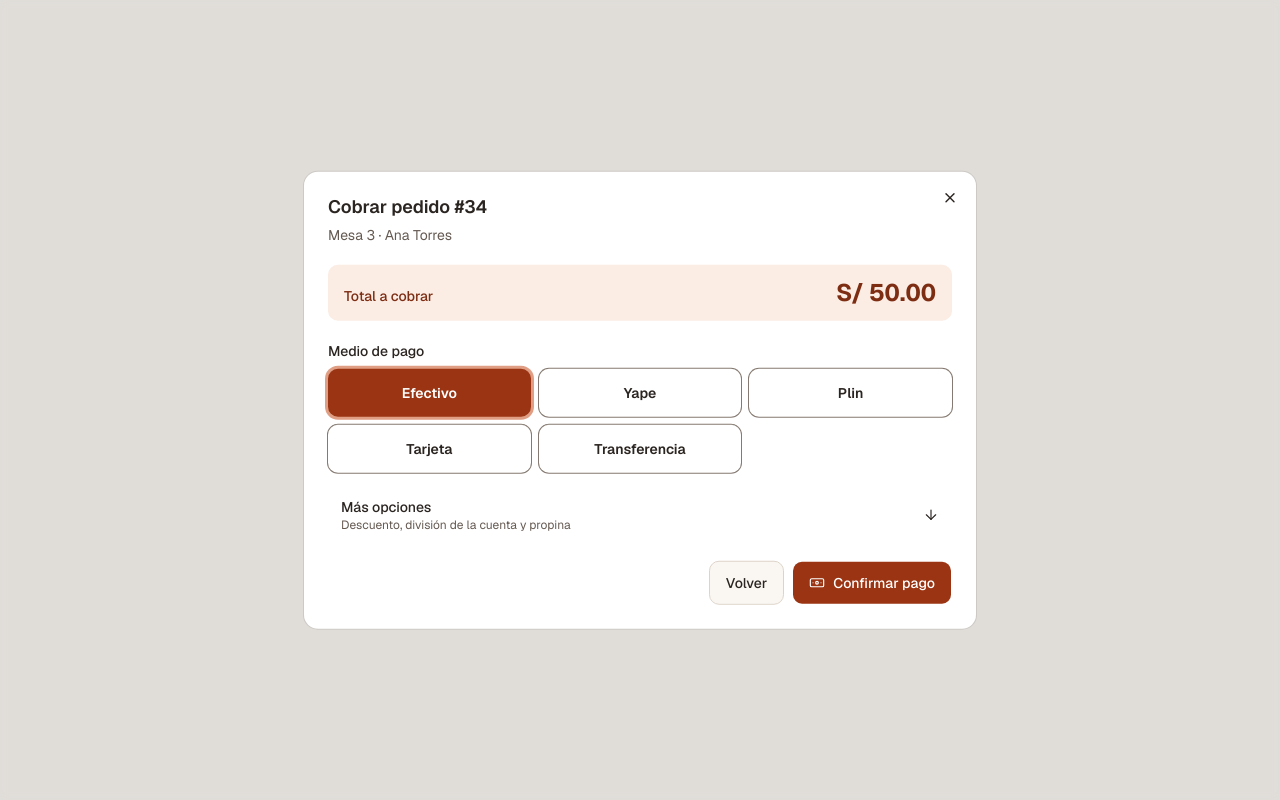
Scenario: cobro por platos › pide al menos un plato y cobra solo los elegidos
Click the button "Más opciones Descuento, división de la cuenta y propina" at (386,506), box [328,492,952,536]
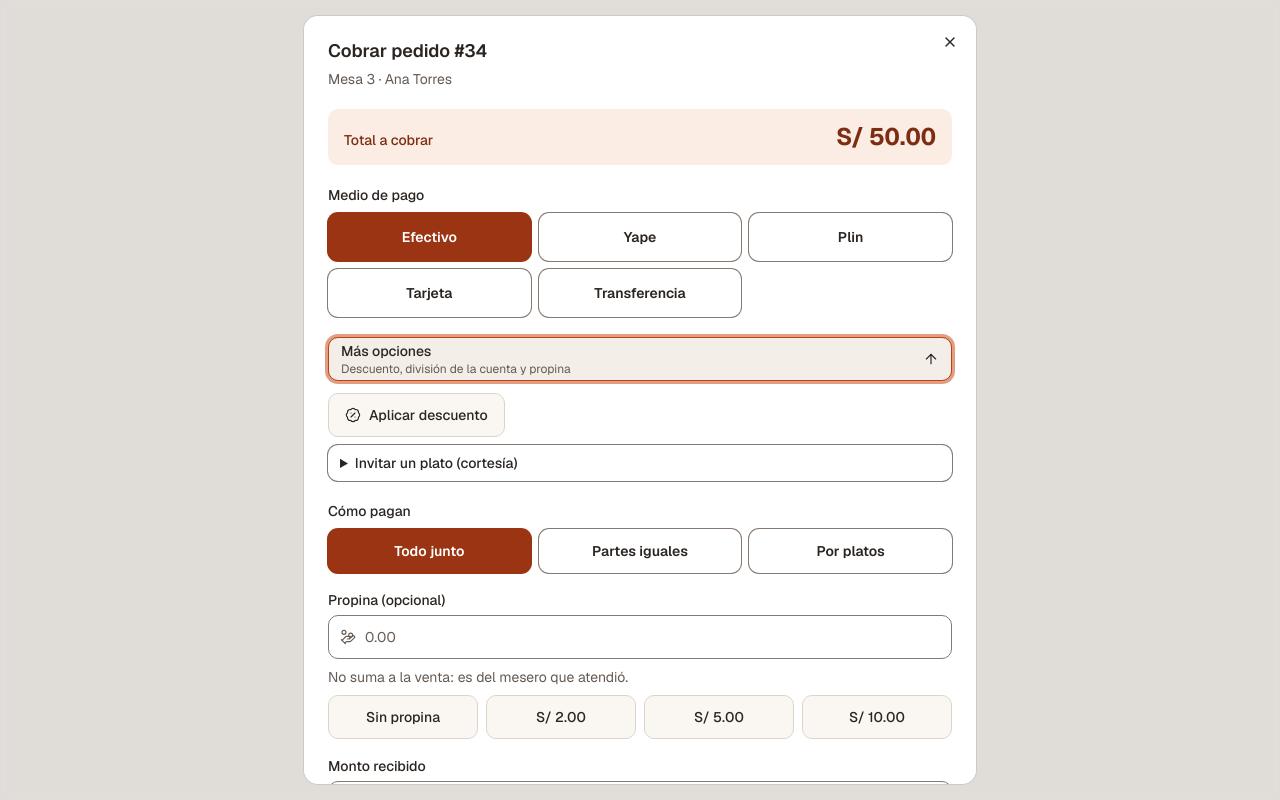
Click the radio button labelled "Por platos" at (851,550), box [749,528,952,572]
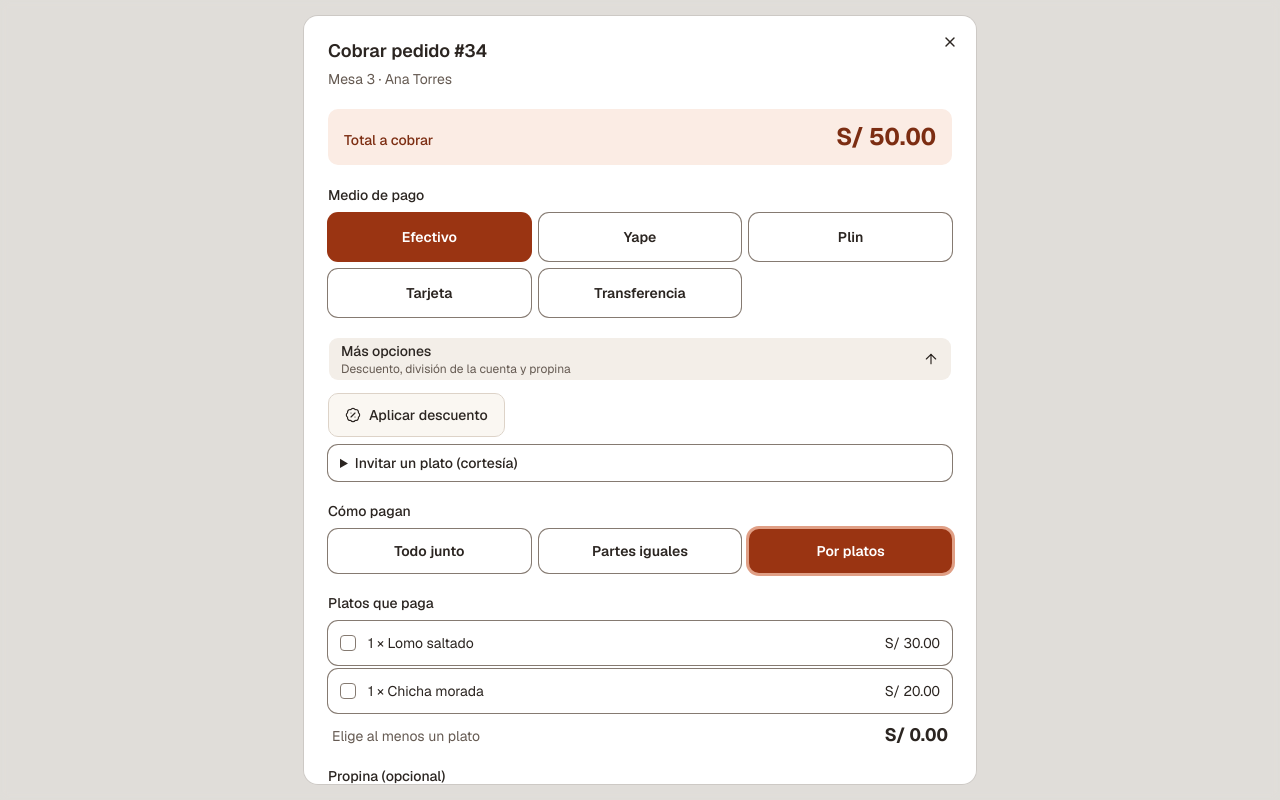
Expected: the text "Elige al menos un plato" is shown, [332,726,480,746]
Click the checkbox named "Chicha morada" in the row of "Chicha morada" at (348,690), box [340,682,356,698]
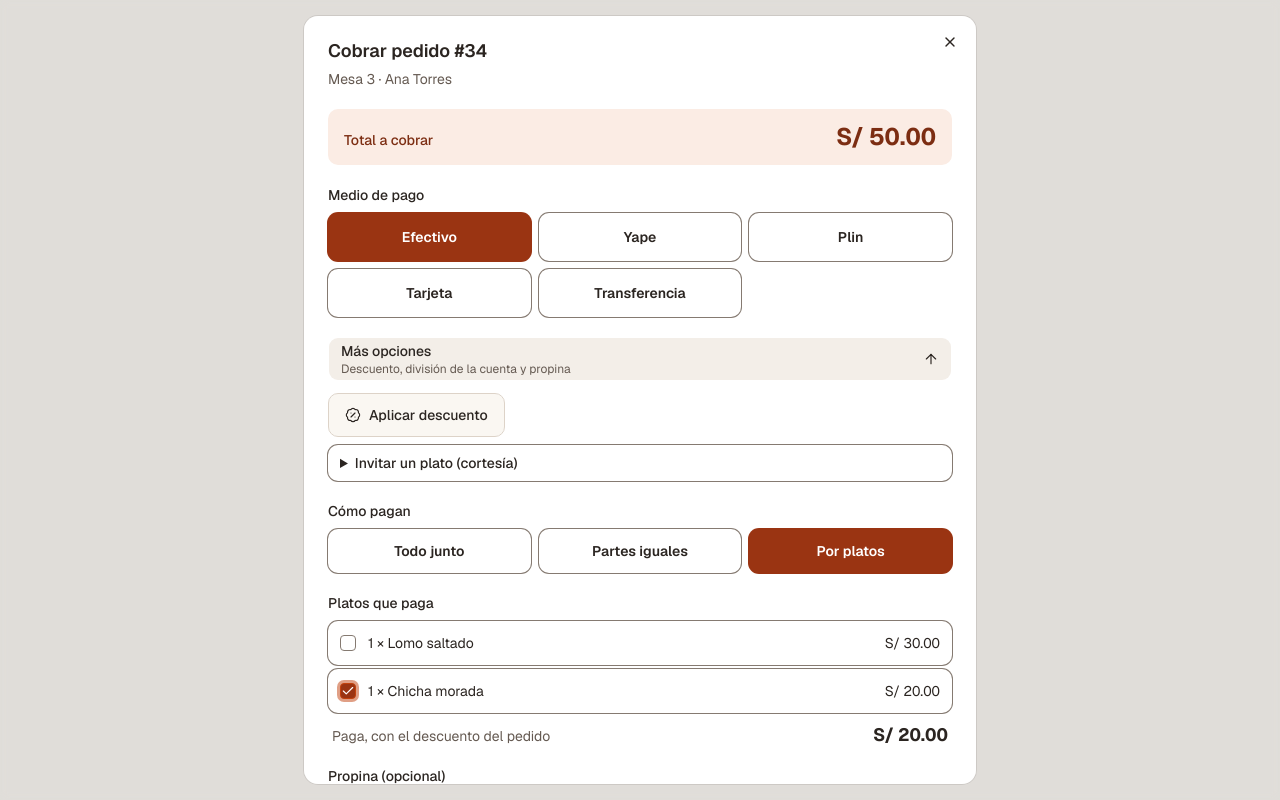
Expected: the element with test id "item-split-charge" reads "Paga, con el descuento del pedido S/ 20.00", [328,720,952,748]
Click the radio button labelled "Yape" at (640,236), box [539,212,741,260]
(page scrolled)
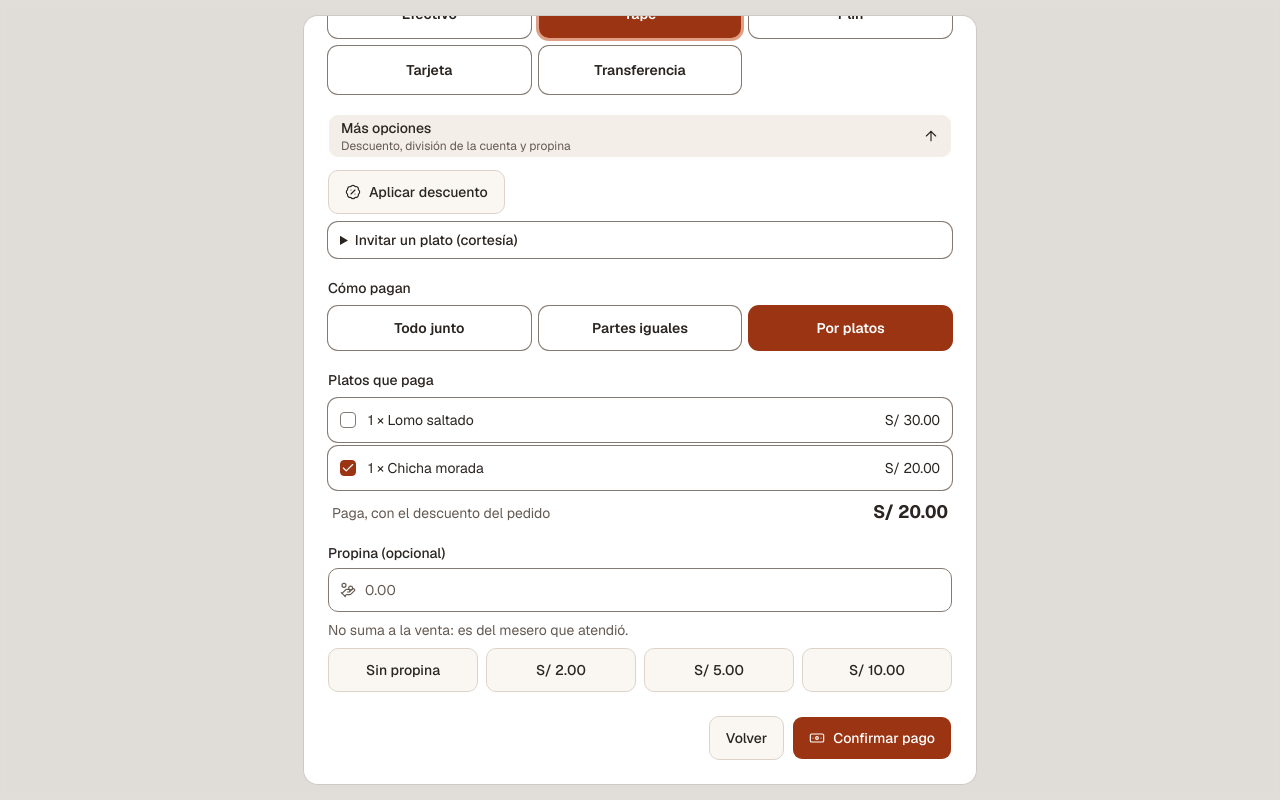
Click the button "Confirmar pago" at (872,738), box [792,716,952,760]
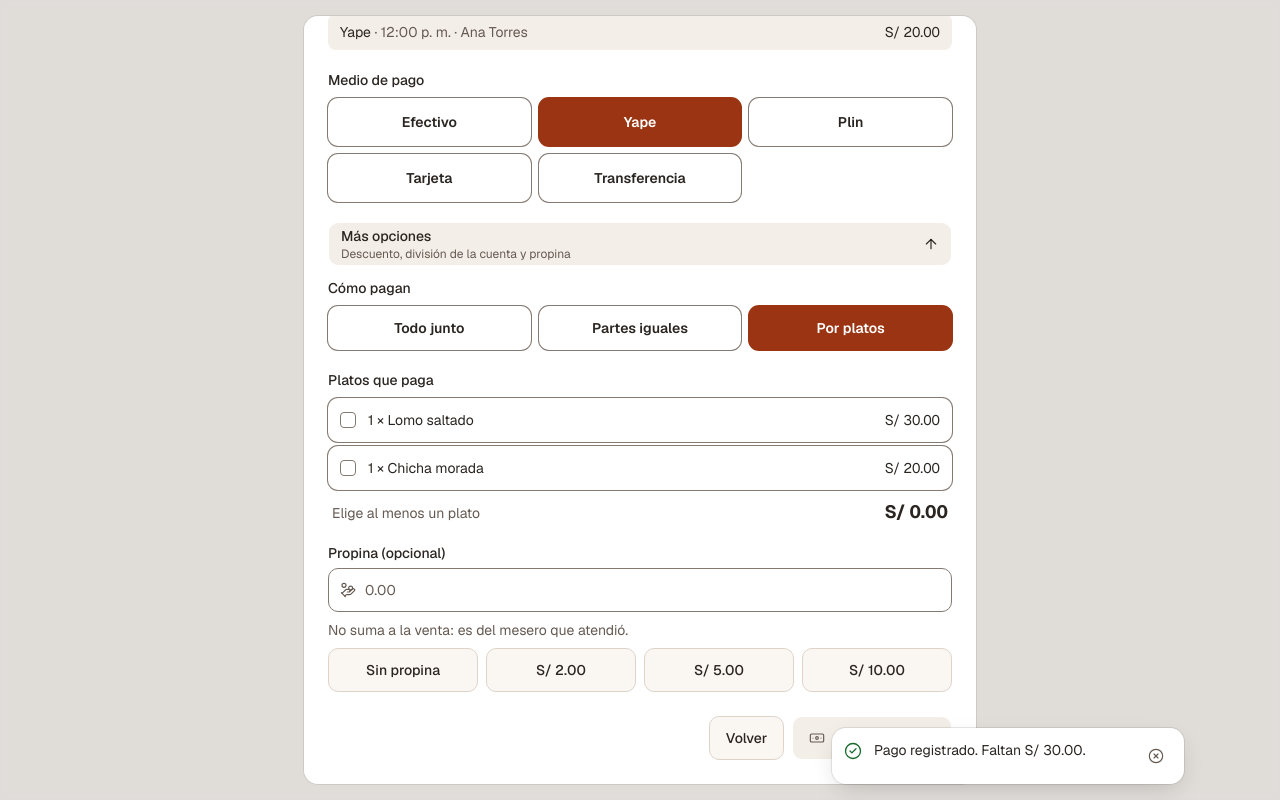
Expected: the text "Pago registrado. Faltan S/ 30.00." is shown, [874,741,1086,759]
